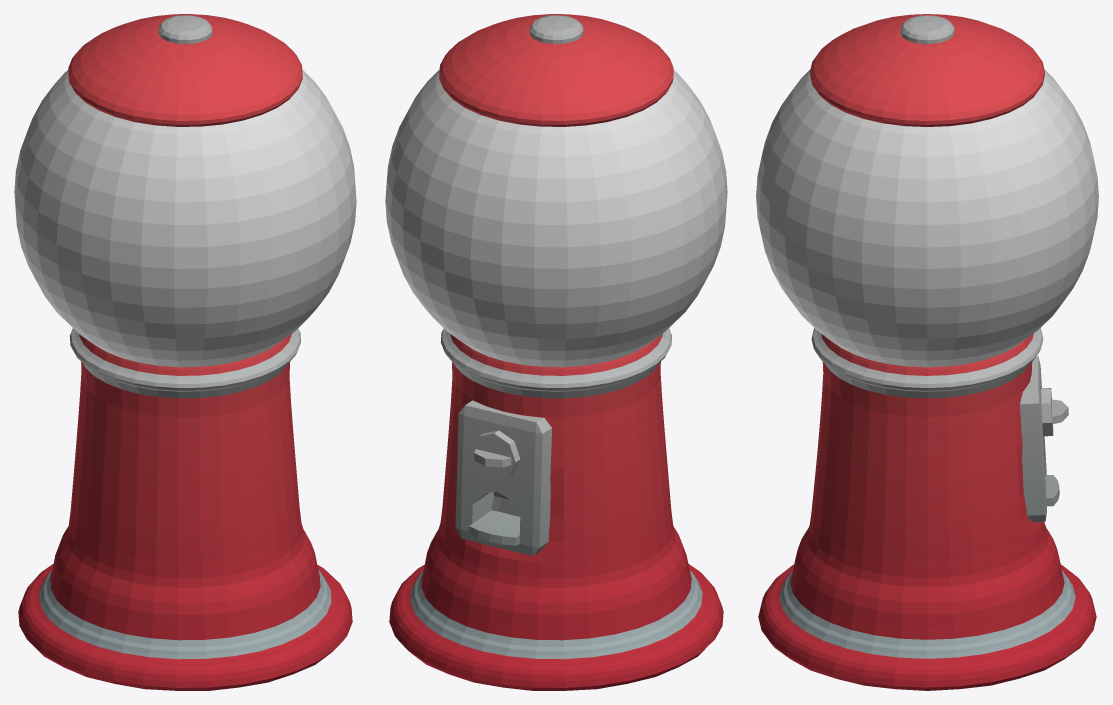
File: gumballMachineblend.fbx
The picture shows the model from 3 angles, left to right: view 1: azimuth 30°, elevation 25°; view 2: azimuth 150°, elevation 25°; view 3: azimuth 270°, elevation 25°; orthographic projection.
Parts seen in each view (by area): view 1: Base, Sphere, Top; view 2: Sphere, Base, Top, Pannel; view 3: Base, Sphere, Top, Pannel.
Part boxes in pixels (<box>): Base: <box>18,328,352,690</box>; Sphere: <box>14,70,356,367</box>; Top: <box>68,14,302,126</box>; Sphere: <box>385,70,727,367</box>; Base: <box>389,328,723,690</box>; Top: <box>439,14,673,126</box>; Pannel: <box>455,400,551,555</box>; Base: <box>758,328,1096,690</box>; Sphere: <box>756,69,1098,367</box>; Top: <box>810,14,1044,126</box>; Pannel: <box>1020,356,1068,522</box>.
Size of the model in its own units: 278 by 541 by 278.
